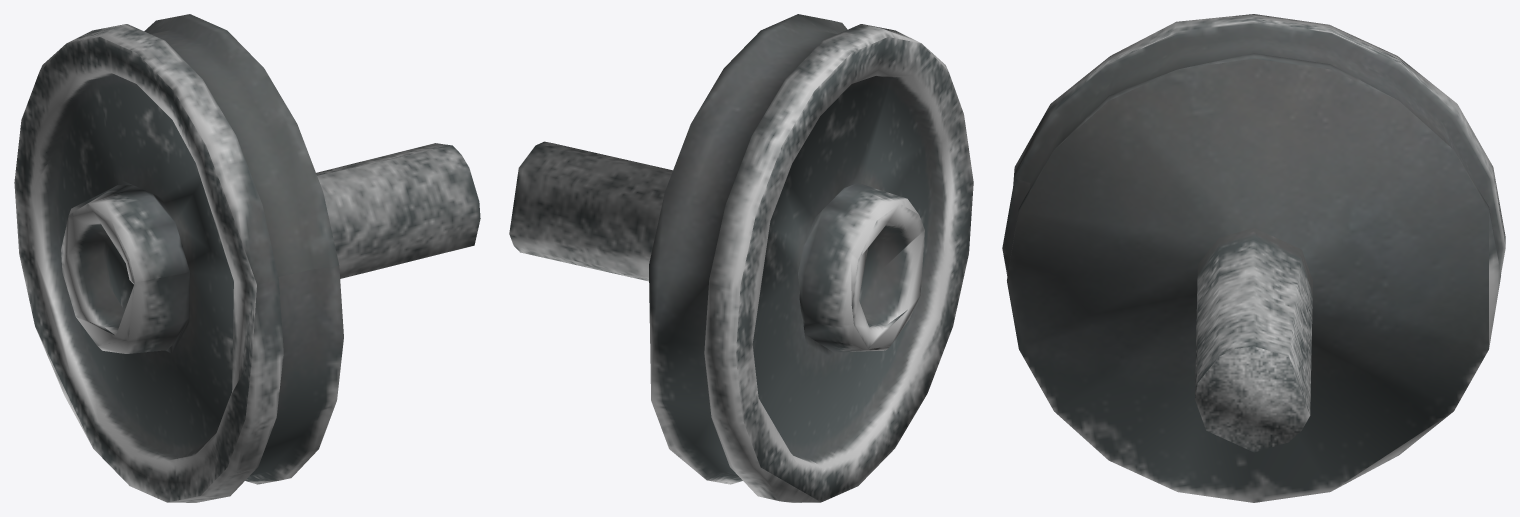
The model's file is SM_Wheel_01_LOD_01.FBX.
3 renders of one model, left to right at view 1: azimuth 30°, elevation 25°; view 2: azimuth 150°, elevation 25°; view 3: azimuth 270°, elevation 25°, orthographic. The views are drawn at different scales.
Visible parts, largest first — view 1: SM_Wheel_01_LOD_01; view 2: SM_Wheel_01_LOD_01; view 3: SM_Wheel_01_LOD_01.
Part boxes in pixels (x1,y1,x2,y2): SM_Wheel_01_LOD_01: [14, 14, 480, 502]; SM_Wheel_01_LOD_01: [509, 14, 973, 502]; SM_Wheel_01_LOD_01: [1002, 14, 1505, 502].
Size of the model in its own units: 1.17 by 1.4 by 1.4.
Materials: 1 (1 with a texture image).
